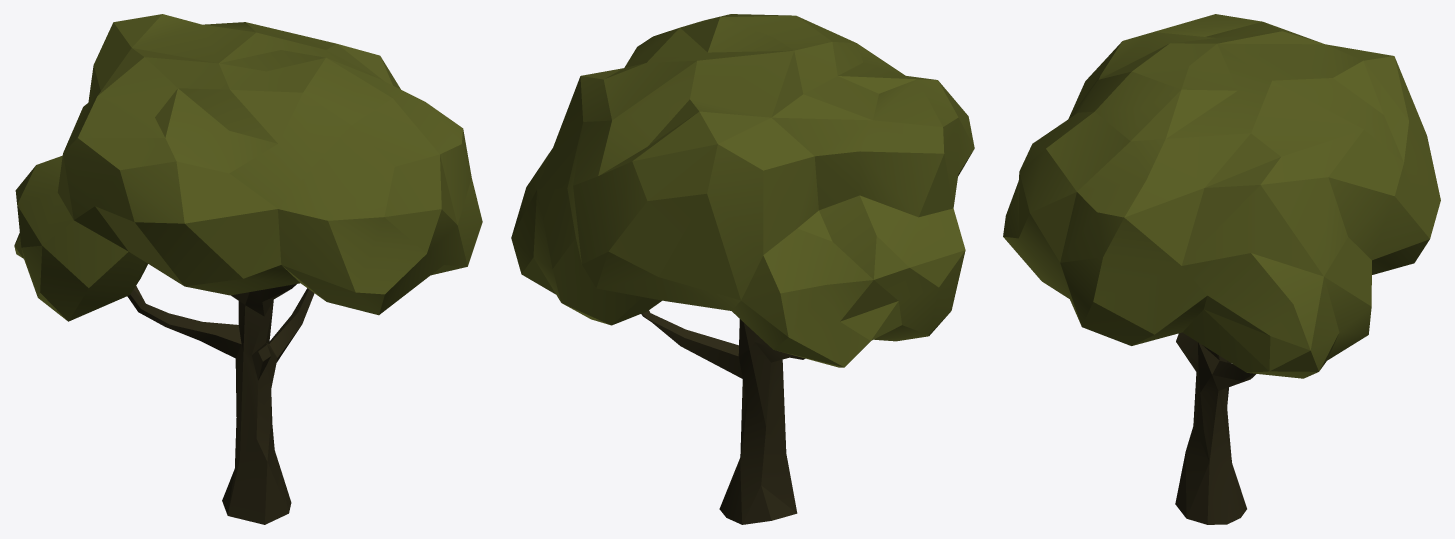
File: OakA.fbx
3 renders of one model, left to right at view 1: azimuth 30°, elevation 25°; view 2: azimuth 150°, elevation 25°; view 3: azimuth 270°, elevation 25°, orthographic. The views are drawn at different scales.
Parts seen in each view (by area): view 1: OakA; view 2: OakA; view 3: OakA.
Boxes of the visible parts, box(x1,y1,x2,y2) form: OakA: box(14, 14, 482, 524); OakA: box(511, 14, 974, 524); OakA: box(1003, 14, 1440, 524).
Size of the model in its own units: 1242 by 1360 by 1204.
